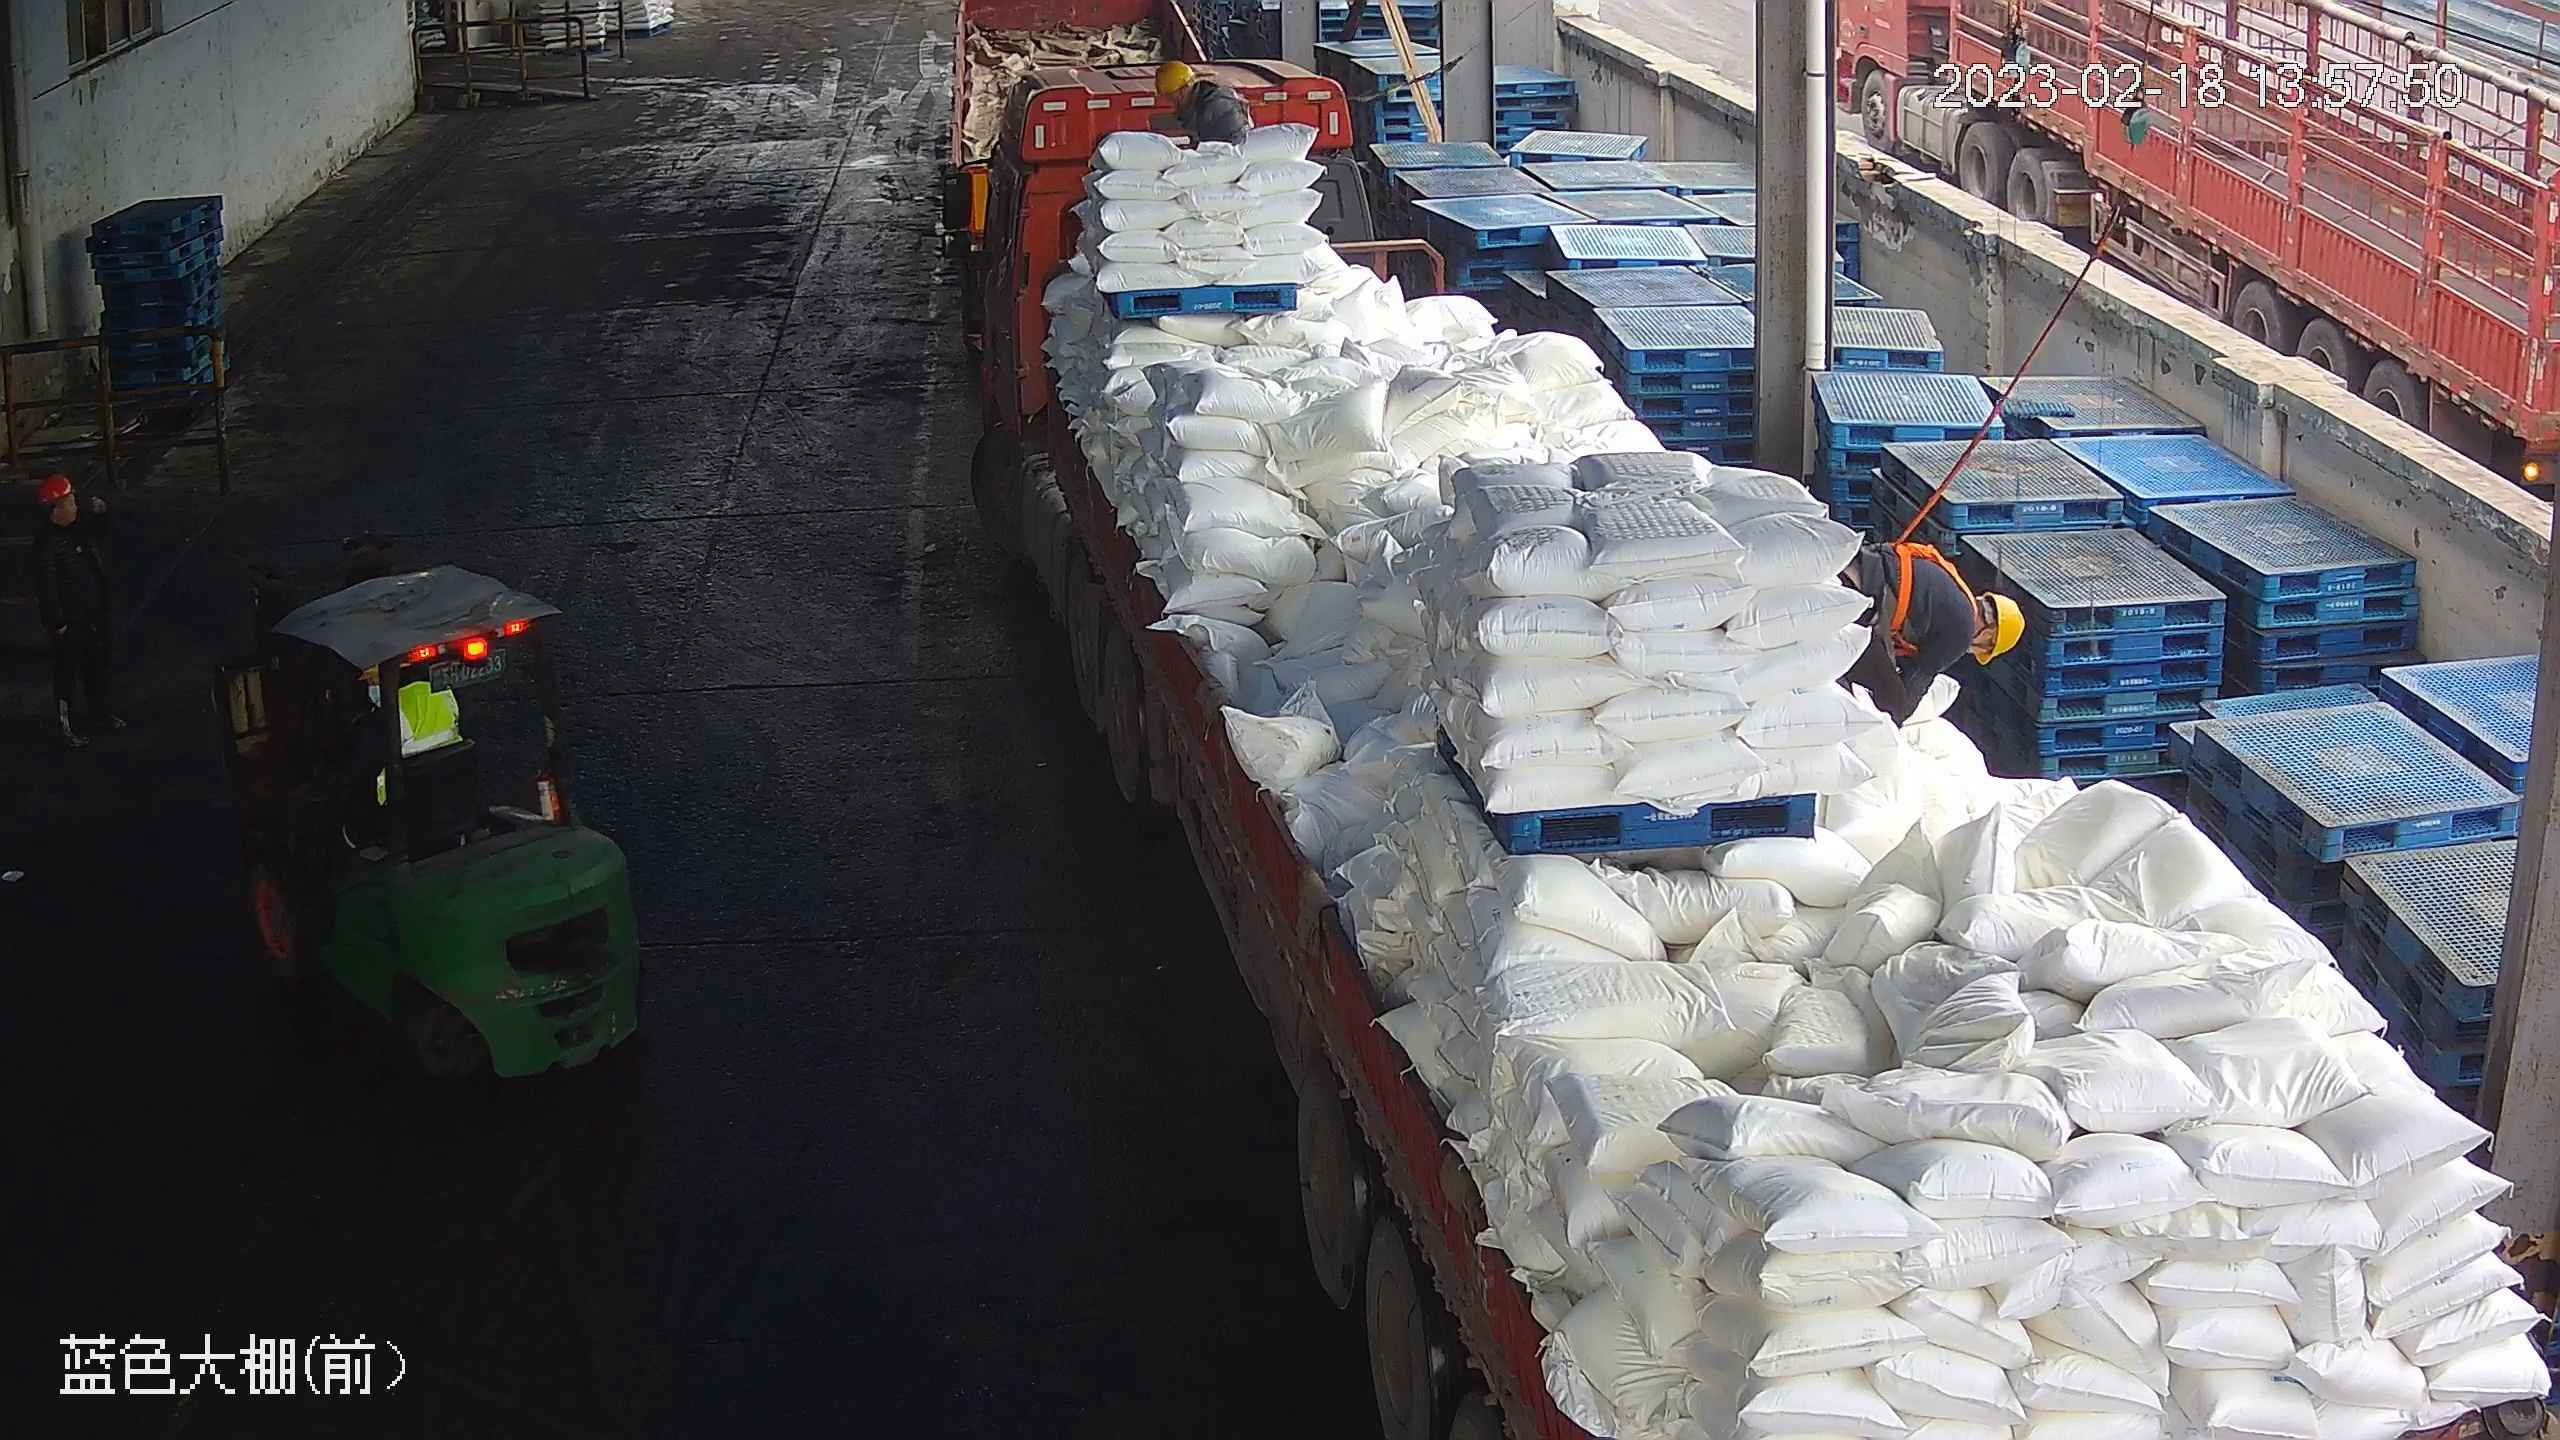belt: (1876, 534, 1984, 656), (1195, 78, 1243, 130)
head: (28, 473, 110, 576), (1153, 58, 1235, 123)
helmet: (1976, 594, 2020, 663), (1151, 58, 1194, 93), (32, 473, 74, 505)
people: (1831, 529, 2028, 762), (25, 469, 130, 750)
truck: (958, 58, 2557, 1440)
